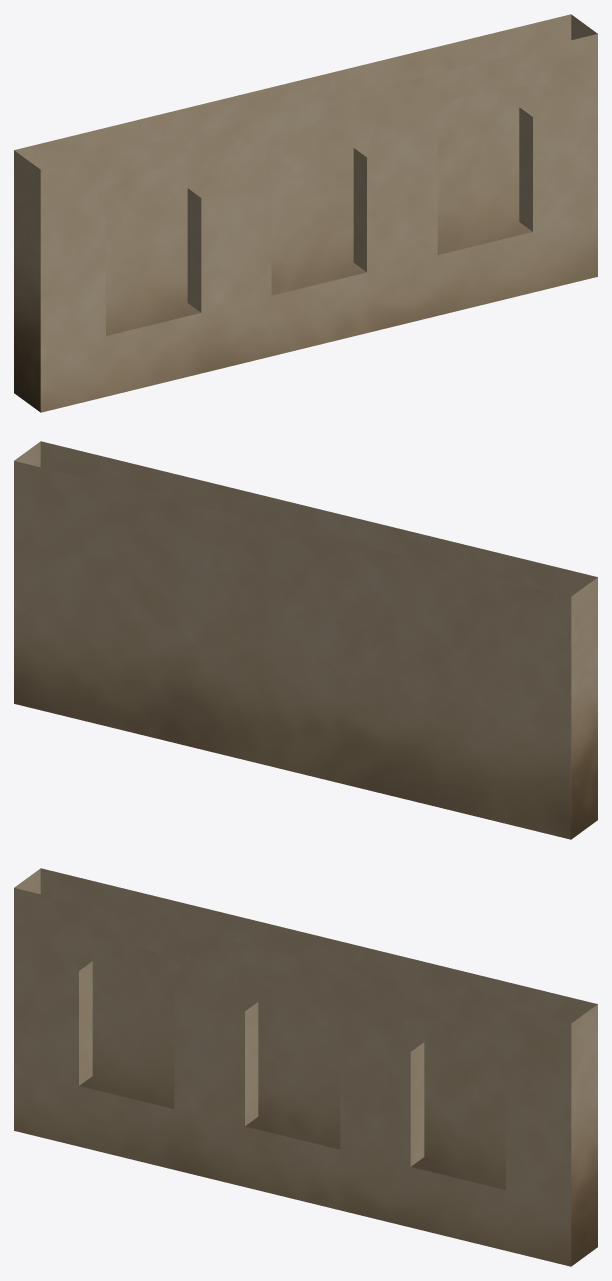
The model's file is WallUpperB01.fbx.
The picture shows the model from 3 angles, top to bottom: view 1: azimuth 30°, elevation 25°; view 2: azimuth 150°, elevation 25°; view 3: azimuth 330°, elevation 25°; orthographic projection.
Visible parts, largest first — view 1: WallUpperB01; view 2: WallUpperB01; view 3: WallUpperB01.
Part boxes in pixels (box(x1,y1,x2,y2)): WallUpperB01: box(14, 14, 597, 412); WallUpperB01: box(14, 441, 597, 839); WallUpperB01: box(14, 868, 597, 1266).
Bounding box in the file's own units: 7.32 × 3.05 × 0.6096.
